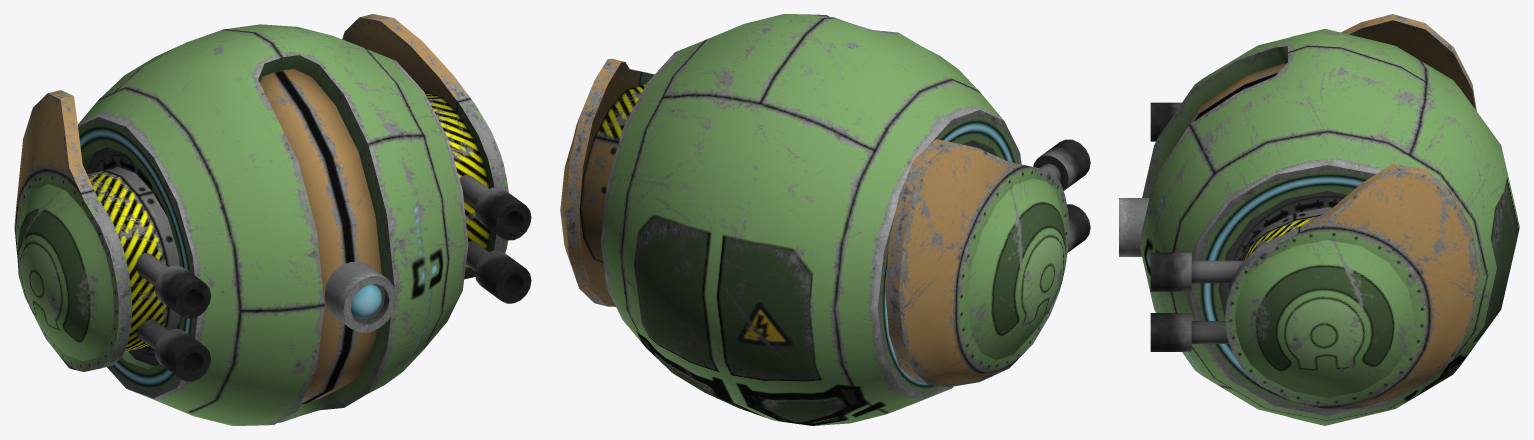
The model's file is flyingBot.obj.
3 views of the same model, side by side, from view 1: azimuth 30°, elevation 25°; view 2: azimuth 150°, elevation 25°; view 3: azimuth 270°, elevation 25° (orthographic). The views are drawn at different scales.
Visible parts, largest first — view 1: Bot.Mesh; view 2: Bot.Mesh; view 3: Bot.Mesh.
Boxes of the visible parts, <box> form: Bot.Mesh: <box>14,14,531,425</box>; Bot.Mesh: <box>560,14,1090,425</box>; Bot.Mesh: <box>1119,14,1519,425</box>.
Size of the model in its own units: 1.19 by 0.947 by 0.9483.
1 material, 1 textured.
